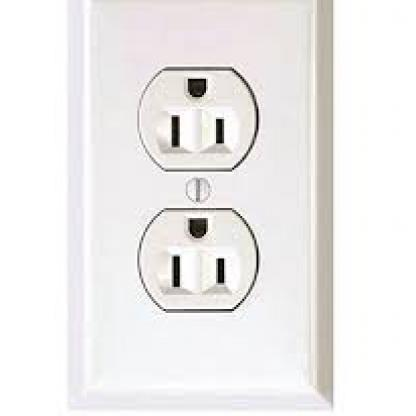OUTLET: (66, 2, 338, 410)
